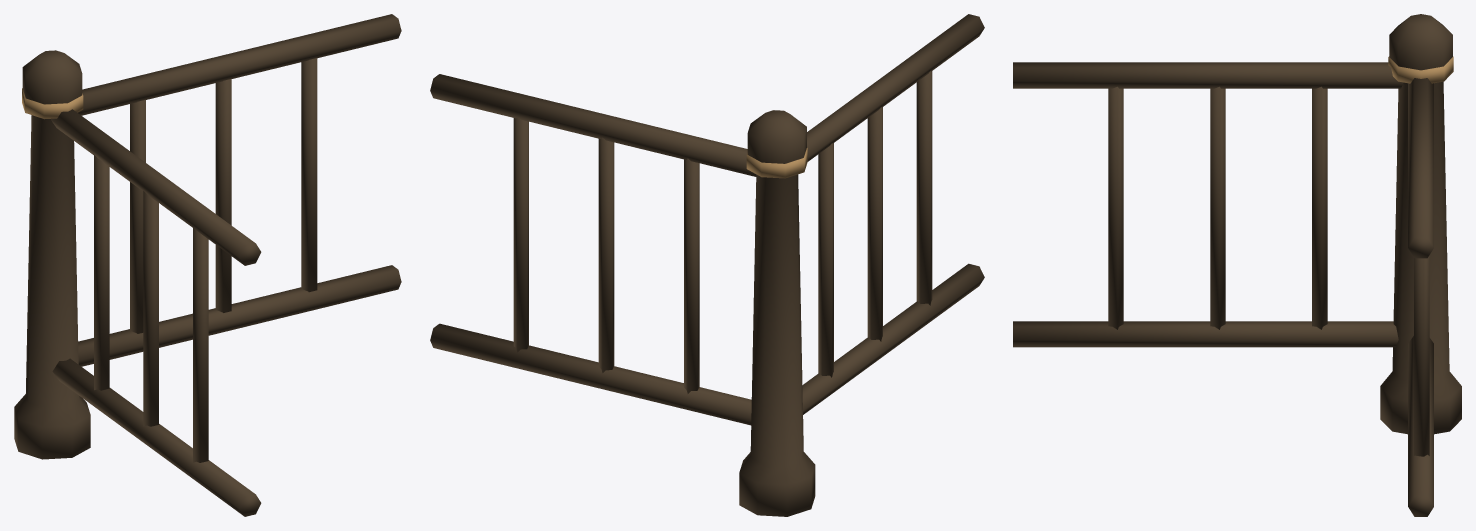
The model's file is railing_corner.glb.
The picture shows the model from 3 angles, left to right: view 1: azimuth 30°, elevation 25°; view 2: azimuth 150°, elevation 25°; view 3: azimuth 270°, elevation 25°; orthographic projection. The views are drawn at different scales.
Visible parts, largest first — view 1: railing_corner; view 2: railing_corner; view 3: railing_corner.
Boxes of the visible parts, left/top/right/bottom form: railing_corner: left=14, top=14, right=401, bottom=516; railing_corner: left=430, top=14, right=984, bottom=516; railing_corner: left=1013, top=14, right=1461, bottom=516.
Bounding box in the file's own units: 1.1 × 1.08 × 1.1.
